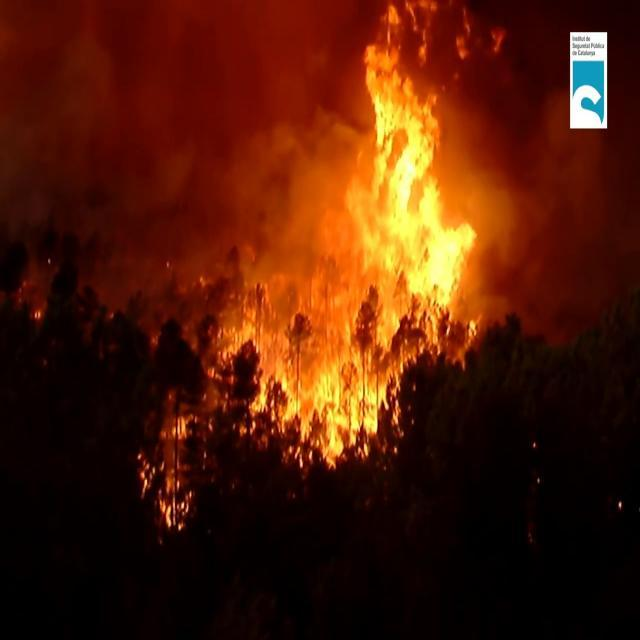Fire: (228, 1, 502, 460), (134, 398, 198, 538)
Smoke: (0, 0, 341, 294)
